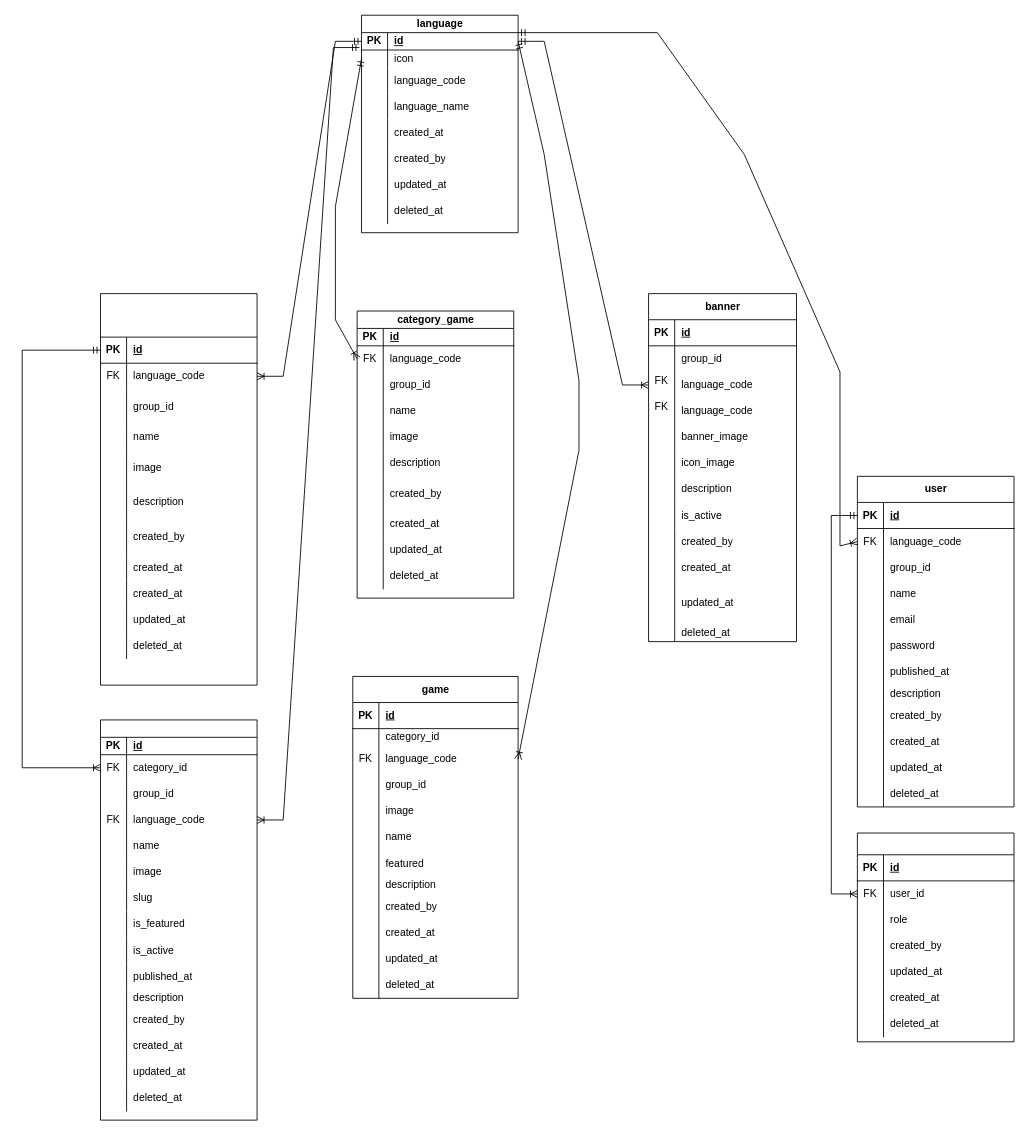
Image size: 1029x1135. Some labels were removed from this diagram. The shapes that lost their labels are listed below. From the top down, each one's box as (x1, y1, x2, y2) in pixels, then its label:
(100, 293, 257, 685): category_news
(100, 719, 257, 1120): news
(857, 832, 1014, 1042): user_role
